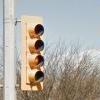traffic lights: (22, 16, 46, 90)
